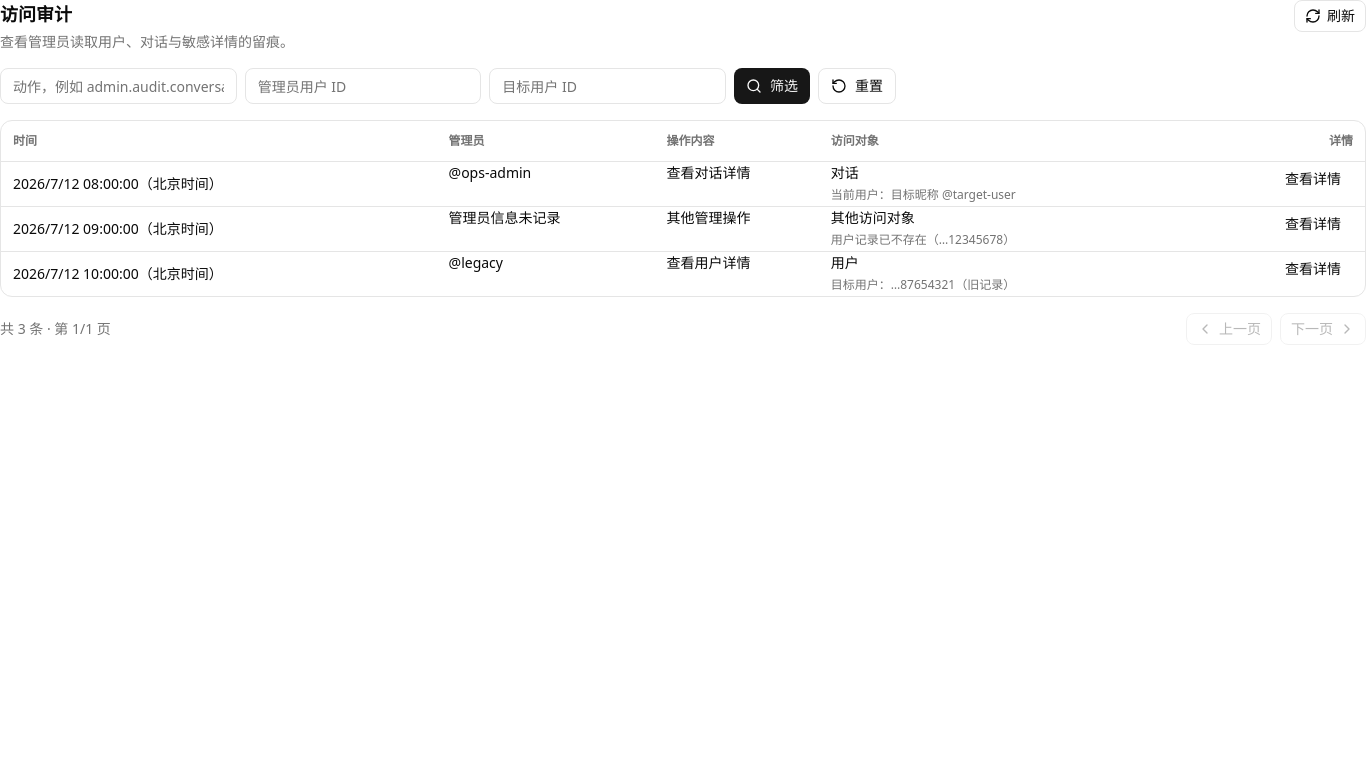
Test: AdminAuditEventsPanel › 缺失管理员和目标信息安全降级，未知原始值不进入主表
expect the cell named "审计管理员 event-missing" reads "管理员信息未记录": met, box [449,208,561,227]
expect the cell named "审计操作 event-missing" reads "其他管理操作": met, box [666,208,750,227]
Click the button with aria-label "查看审计详情 event-missing" at (1313, 224), box [1273,208,1353,240]
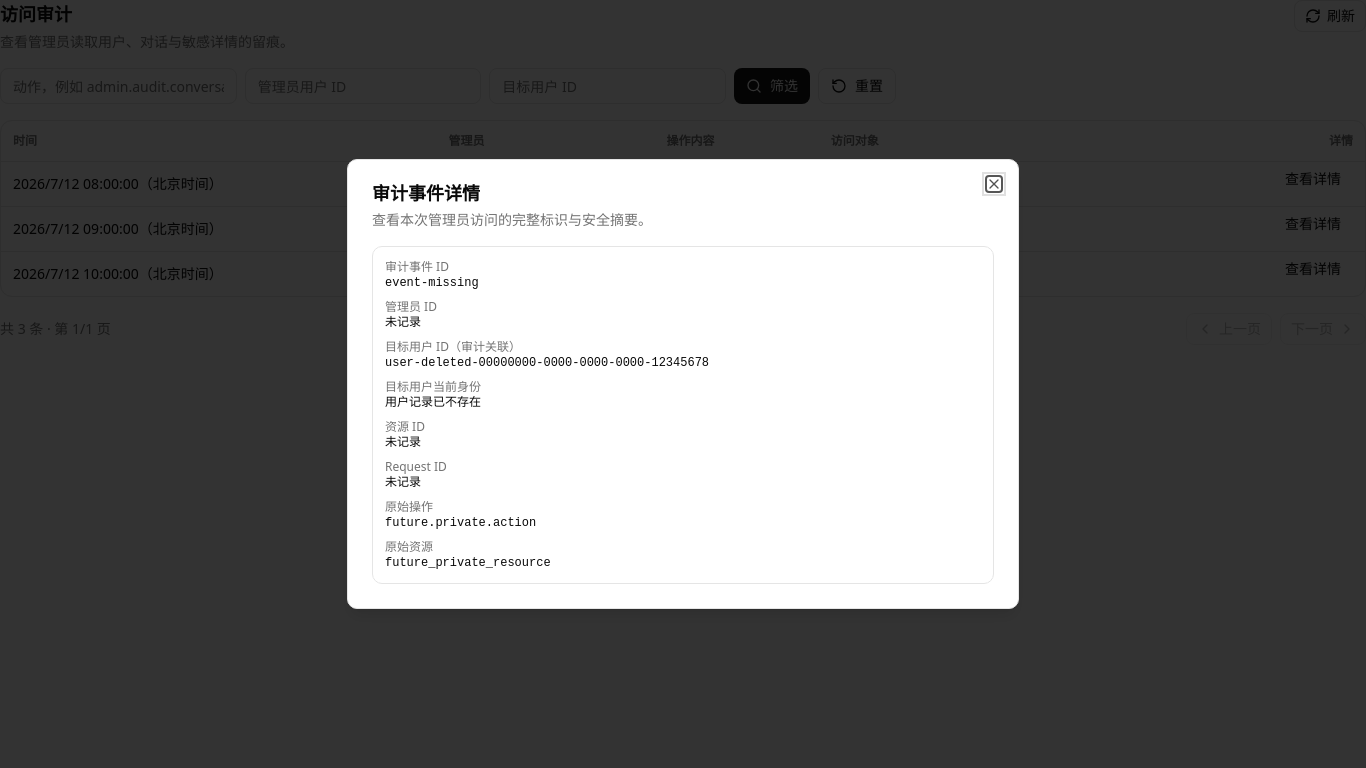
expect the element named "审计详情 event-missing" shows "user-deleted-00000000-0000-0000-0000-12345678": met, box [385,356,709,370]
